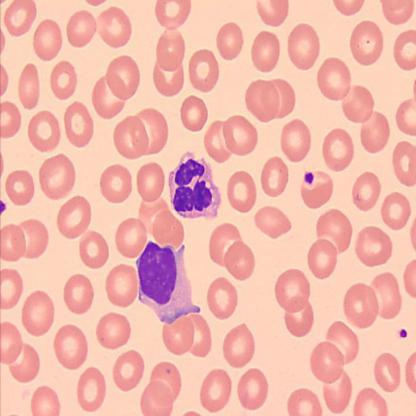Atypical lymphocyte: (135, 240, 201, 319), (170, 151, 220, 217)
